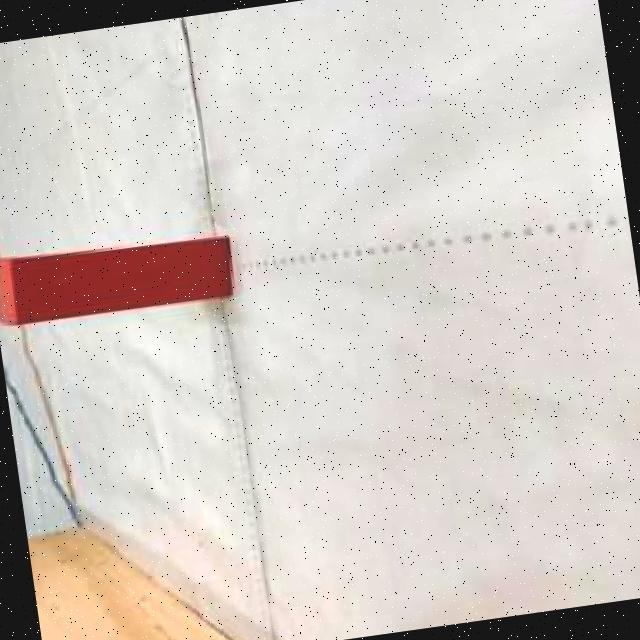redbox: (0, 228, 239, 332)
